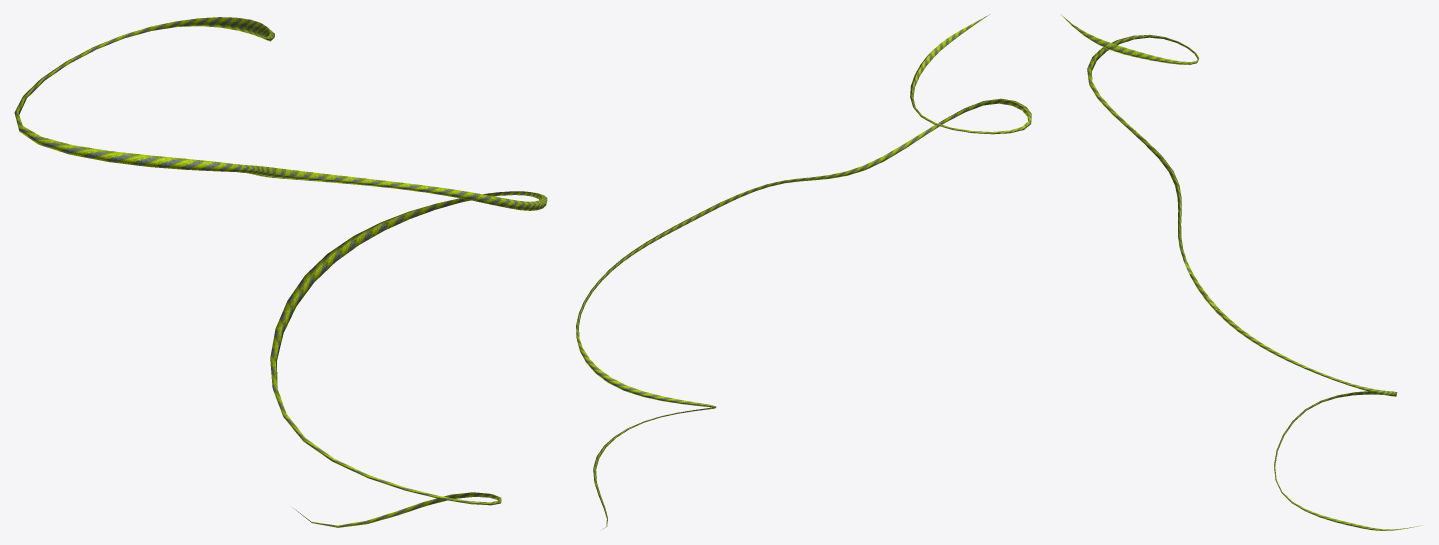
The model's file is Frog Forest 3.fbx.
The picture shows the model from 3 angles, left to right: view 1: azimuth 30°, elevation 25°; view 2: azimuth 150°, elevation 25°; view 3: azimuth 270°, elevation 25°; orthographic projection. The views are drawn at different scales.
Visible parts, largest first — view 1: Frog Forest 3; view 2: Frog Forest 3; view 3: Frog Forest 3.
Boxes of the visible parts, x1,y1,x2,y2 form: Frog Forest 3: (14, 17, 547, 527); Frog Forest 3: (576, 14, 1031, 529); Frog Forest 3: (1060, 14, 1421, 530).
Bounding box in the file's own units: 158067 × 188840 × 149226.
